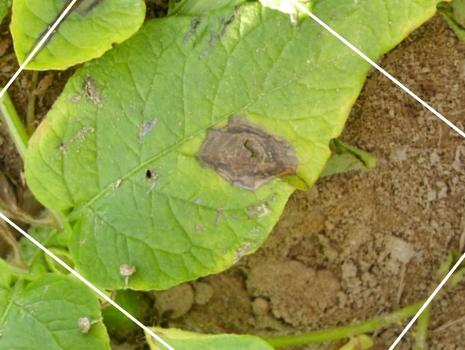Tomato Early blight leaf: (0, 0, 399, 350)
